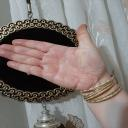OpenPalm: (0, 23, 102, 94)
